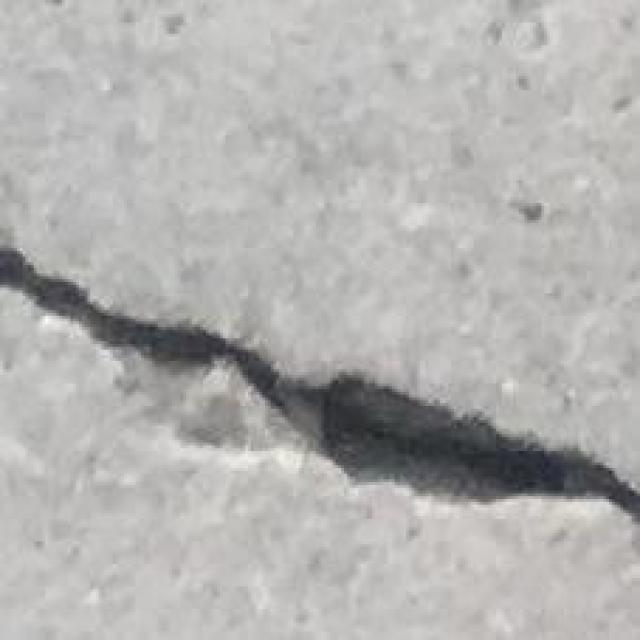Crack: (3, 237, 640, 536)
